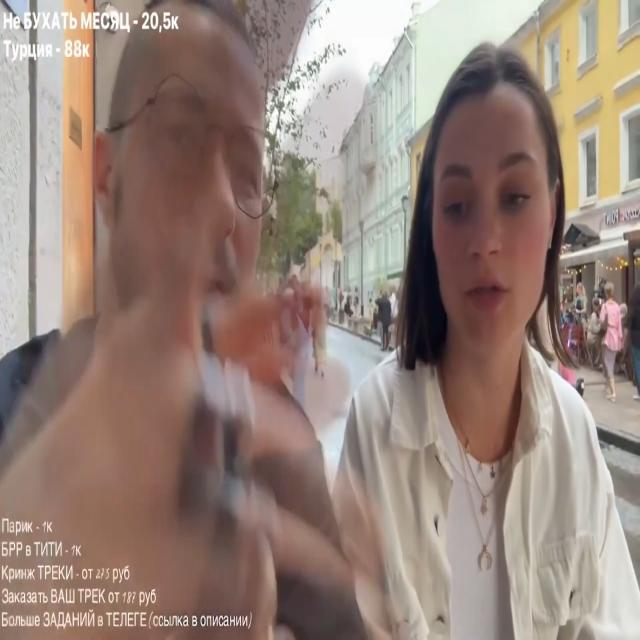Person: (0, 11, 365, 630), (302, 36, 638, 632), (598, 287, 628, 400), (623, 282, 640, 398), (374, 293, 392, 349)
